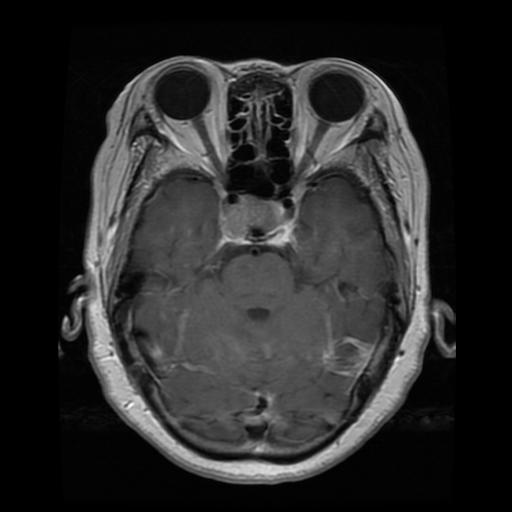Pituirity_tumour: (222, 198, 284, 234)
